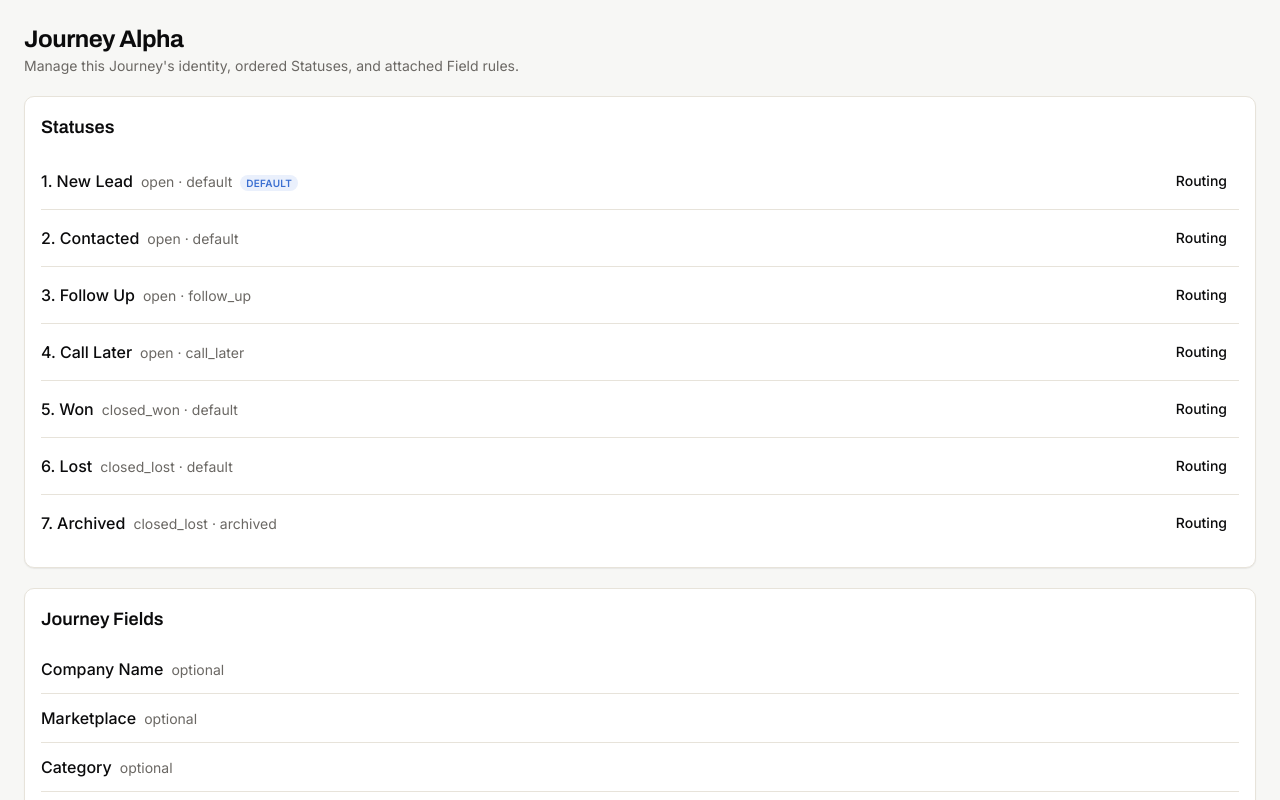
Test case: administration resource flows › hides the routing grant editor from someone who cannot edit permissions
Click the button "Routing" in the row of "New Lead": (1201, 181) x1=1164 y1=165 x2=1239 y2=197
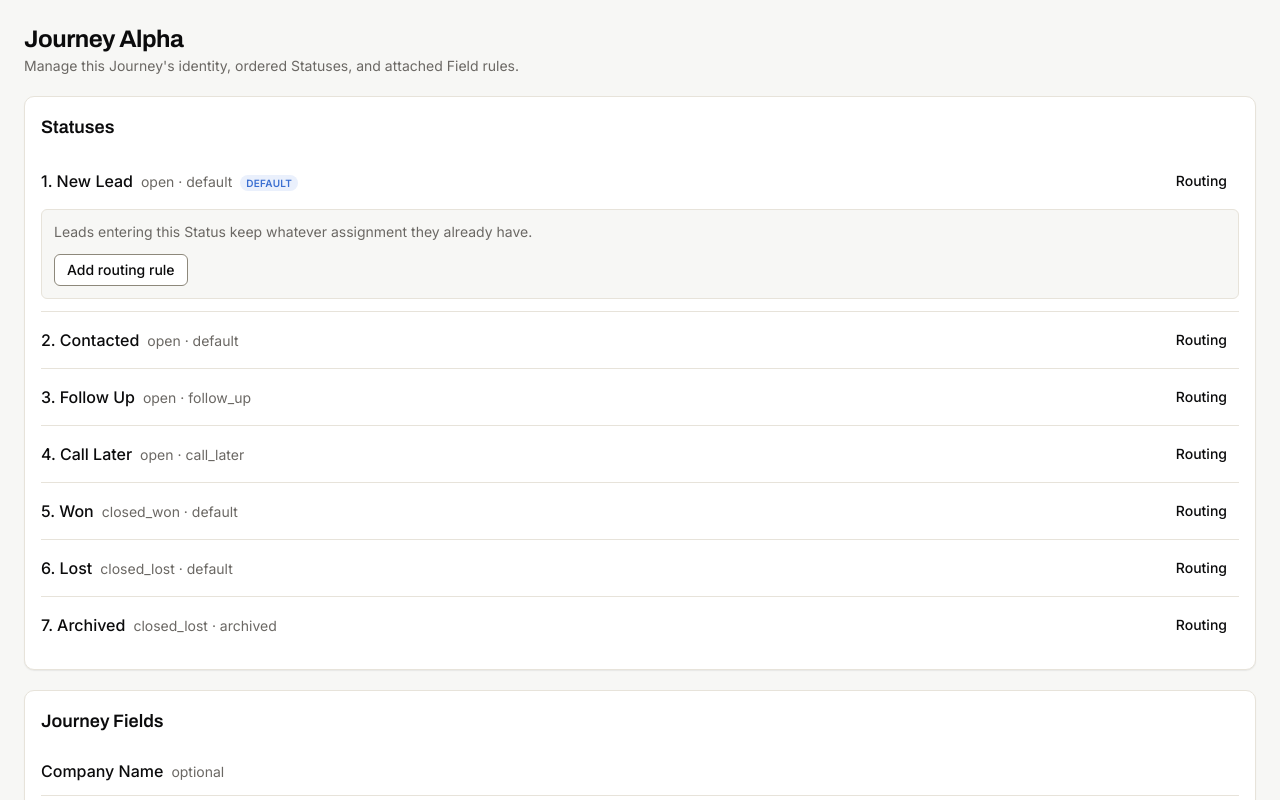
Expected: the button "Add routing rule" is shown, x1=54 y1=254 x2=188 y2=286
